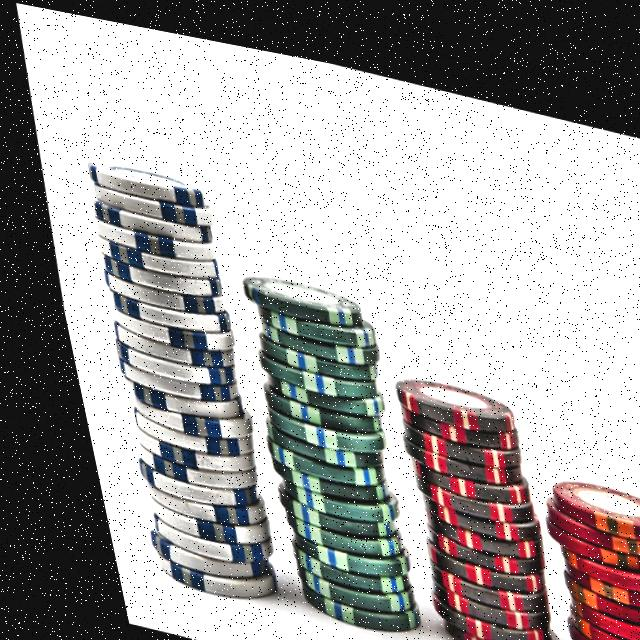Chip: (48, 130, 286, 613), (208, 243, 424, 636), (362, 348, 563, 640), (509, 448, 640, 640)
